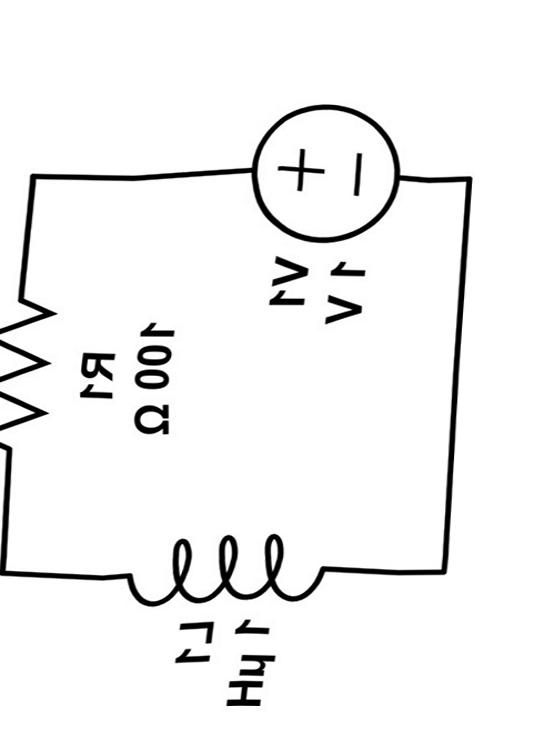Battery: (212, 97, 439, 256)
